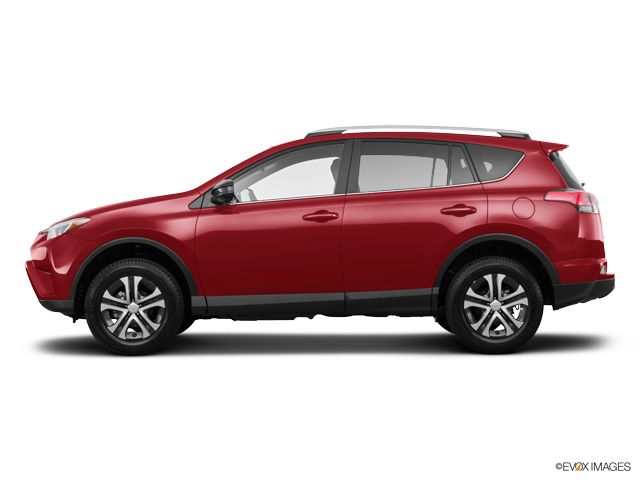Toyota RAV-4: (23, 123, 618, 356)
